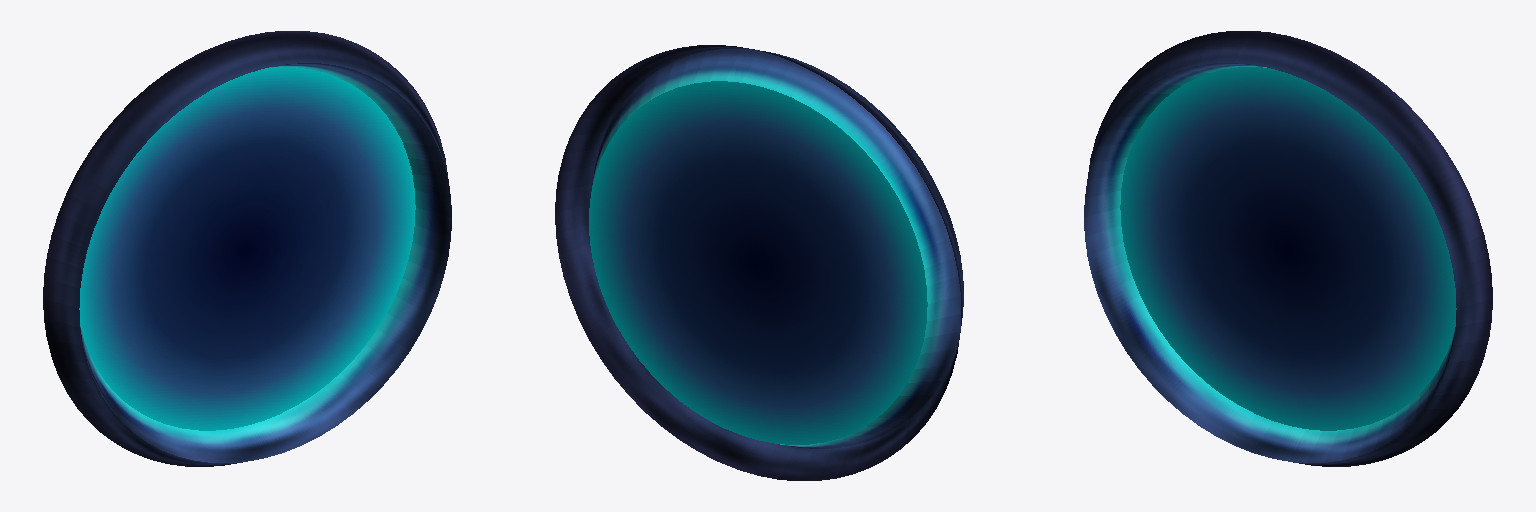
The picture shows the model from 3 angles: view 1: azimuth 30°, elevation 25°; view 2: azimuth 150°, elevation 25°; view 3: azimuth 330°, elevation 25°; orthographic projection.
Parts seen in each view (by area): view 1: pohja; view 2: pohja; view 3: pohja.
Boxes of the visible parts, box(x1,y1,x2,y2) form: pohja: box(43, 31, 451, 466); pohja: box(555, 45, 963, 480); pohja: box(1084, 31, 1492, 466).
Size of the model in its own units: 19.92 by 19.92 by 1.66.
1 materials, 1 textured.